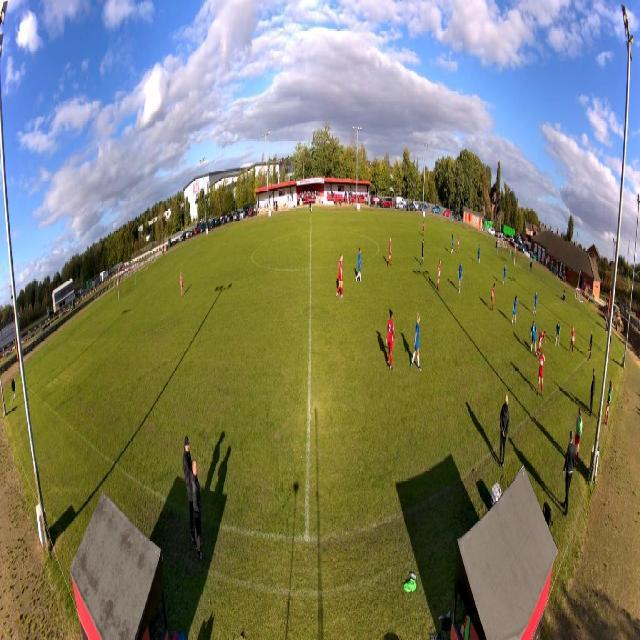ball: (543, 354, 545, 362)
player: (411, 311, 422, 372), (386, 308, 396, 370), (336, 253, 345, 299), (537, 349, 545, 397), (535, 328, 546, 357), (531, 318, 538, 355), (356, 247, 362, 283), (512, 295, 518, 326), (569, 326, 575, 355), (555, 321, 561, 348), (387, 238, 392, 267), (491, 283, 496, 312), (458, 261, 462, 295), (437, 259, 441, 291), (533, 290, 537, 317), (180, 272, 184, 298), (421, 239, 424, 268), (503, 265, 507, 286), (451, 235, 454, 255), (478, 245, 481, 265), (457, 235, 460, 254), (422, 220, 425, 237), (508, 247, 511, 264)
